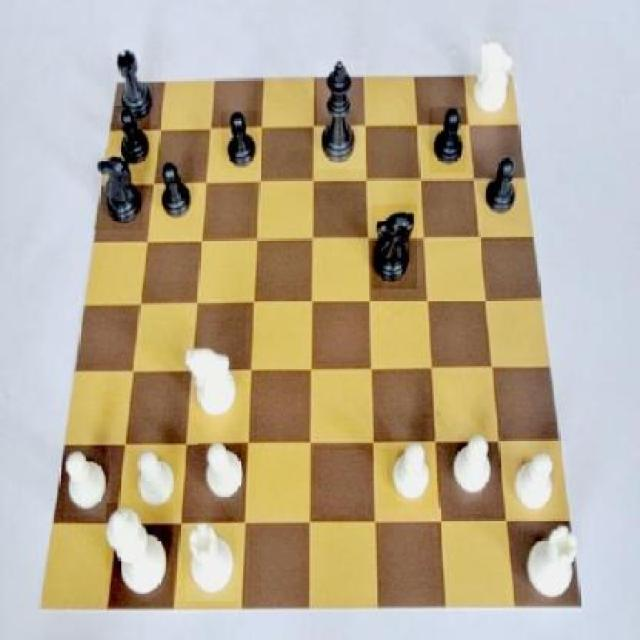black-bishop: (317, 60, 366, 169)
black-king: (94, 149, 144, 232), (372, 205, 417, 289)
black-knight: (152, 158, 195, 224), (111, 106, 151, 171), (220, 111, 263, 168), (429, 108, 466, 174), (483, 151, 517, 215)
black-queen: (110, 43, 158, 124)
white-bishop: (106, 503, 173, 607)
white-king: (183, 337, 241, 427), (471, 32, 520, 120)
white-knight: (389, 440, 443, 509), (65, 443, 112, 521), (198, 443, 250, 511), (129, 446, 179, 514), (509, 448, 558, 514), (452, 431, 495, 503)
white-queen: (525, 523, 582, 600), (186, 523, 240, 601)
